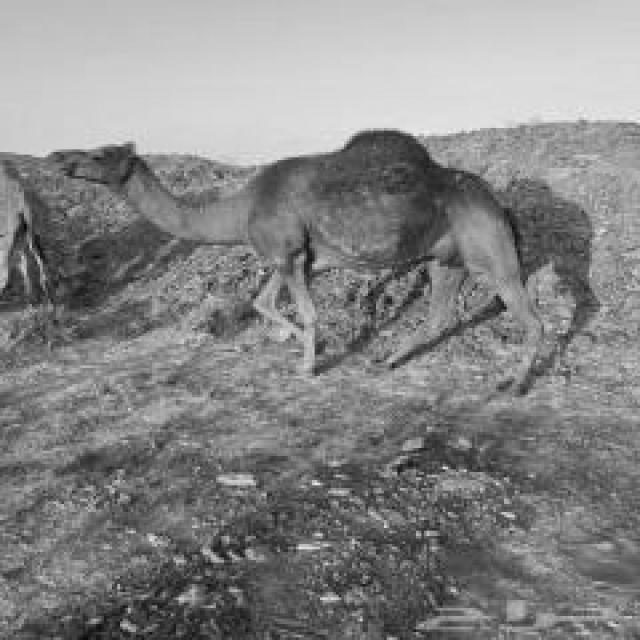Camel: (40, 125, 547, 398)
